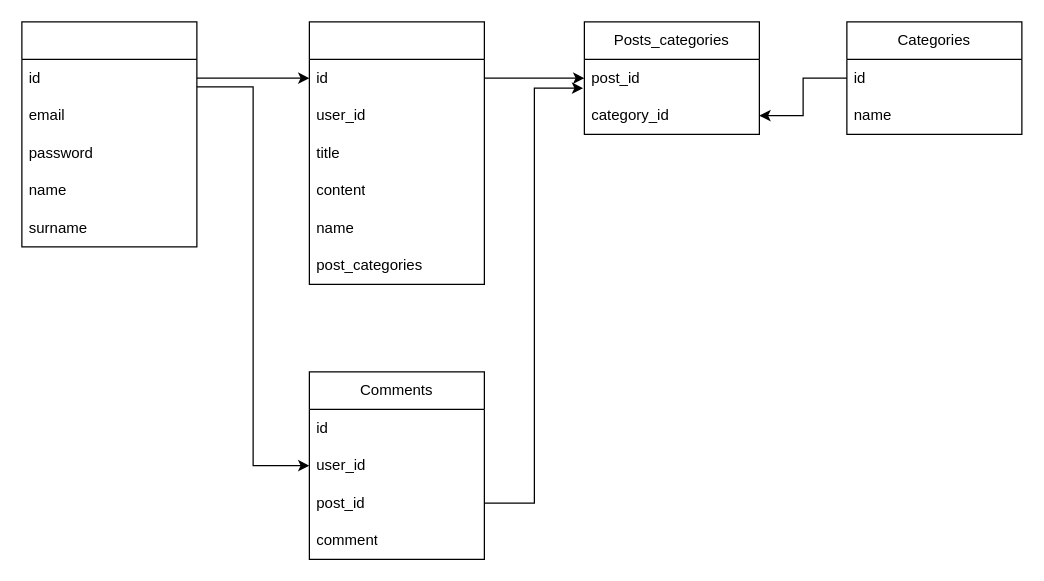
This 1044x581 diagram has some shape labels left out. Each missing label, with the box of its shape:
Posts: (308, 21, 484, 284)
Users: (21, 21, 197, 247)
